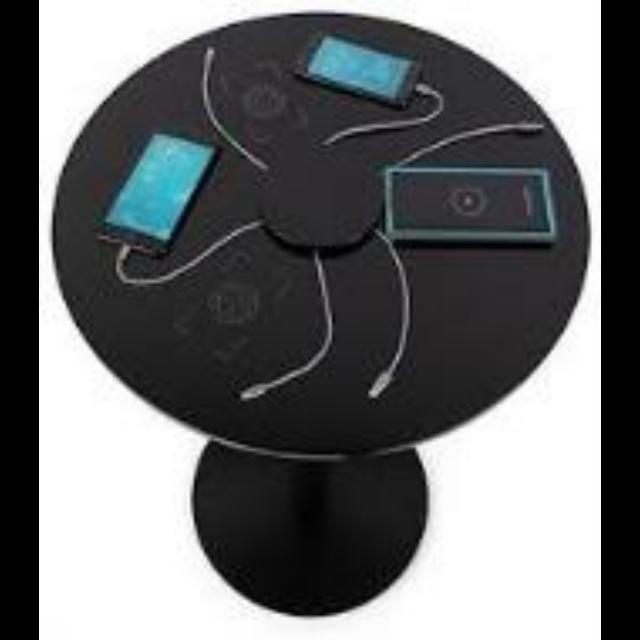phone: (362, 136, 572, 263), (81, 110, 231, 282), (280, 17, 432, 115)
